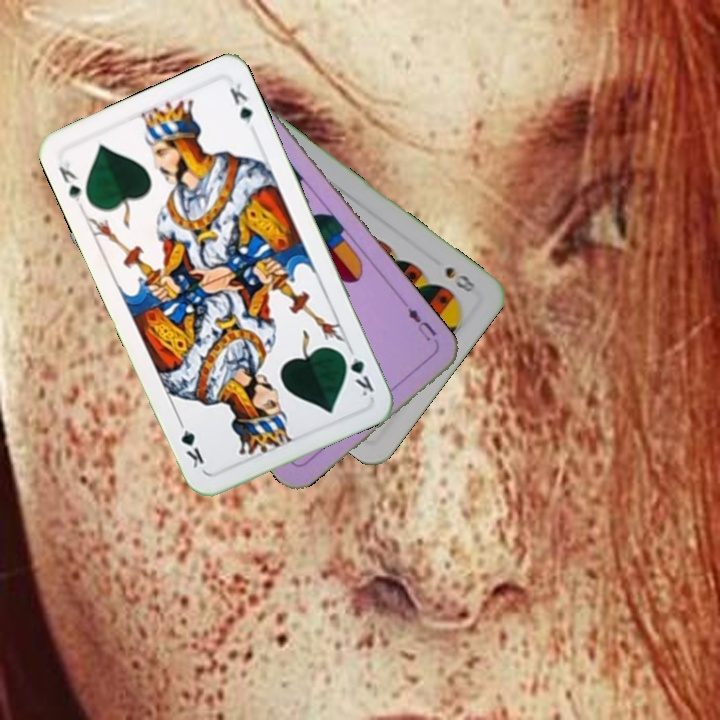EU: (403, 303, 439, 344)
GK: (337, 343, 377, 399), (54, 155, 84, 205)
S8: (441, 262, 479, 297)
